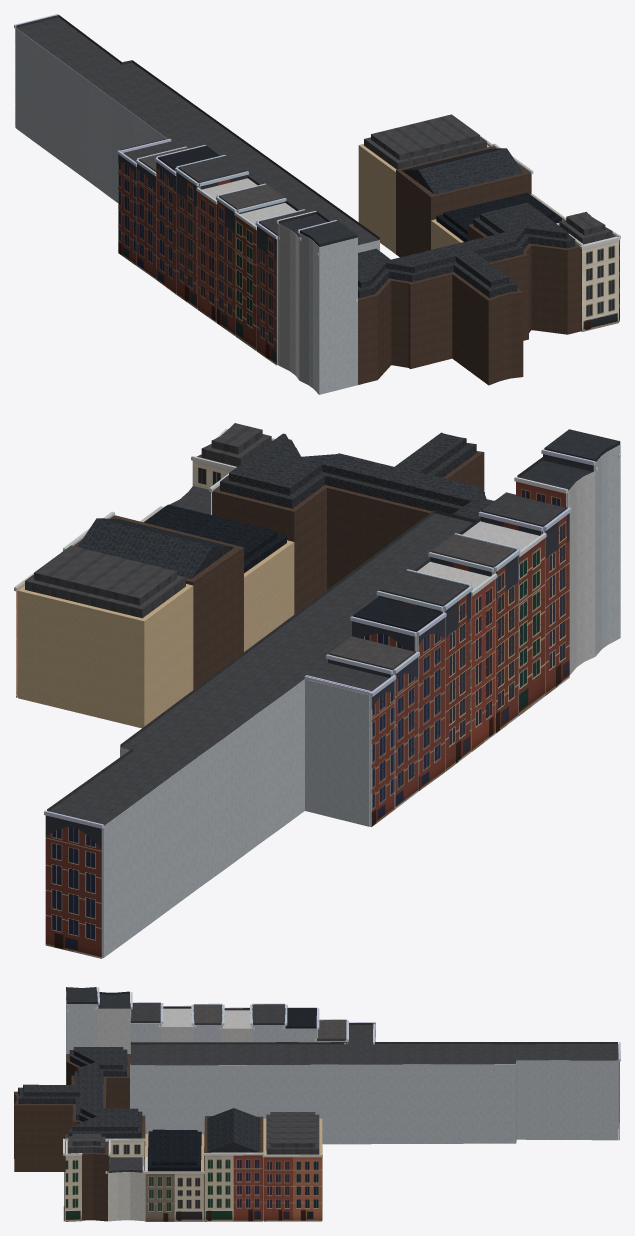
The picture shows the model from 3 angles, top to bottom: view 1: azimuth 30°, elevation 25°; view 2: azimuth 150°, elevation 25°; view 3: azimuth 270°, elevation 25°; orthographic projection. The views are drawn at different scales.
Visible parts, largest first — view 1: bldg_996725768, bldg_996725786_roof, bldg_996725786, bldg_996725766, bldg_996725768_roof_b, bldg_996725770, bldg_996725764_facade2, bldg_996725770_roof, bldg_996725771, bldg_996725767, bldg_996725768_roof_a, bldg_996725771_roof_b (+18 smaller); view 2: bldg_996725786, bldg_996725786_roof, bldg_996725771, bldg_996725768, bldg_996725768_roof_b, bldg_996725786_facade2, bldg_996725770, bldg_996725767, bldg_996725766, bldg_996725770_roof, bldg_996725771_roof_b, bldg_996725789_facade0 (+26 smaller); view 3: bldg_996725786, bldg_996725786_roof, bldg_996725768, bldg_996725770_facade0, bldg_996725771_facade0, bldg_996725768_roof_b, bldg_996725769_facade0, bldg_996725770_roof, bldg_996725768_roof_a, bldg_996725764, bldg_996725765, bldg_996725769_roof_b (+25 smaller).
Part boxes in pixels (<box>): bldg_996725768: <box>358,224,580,385</box>; bldg_996725786_roof: <box>16,15,379,245</box>; bldg_996725786: <box>16,28,379,252</box>; bldg_996725766: <box>299,233,357,394</box>; bldg_996725768_roof_b: <box>358,202,568,288</box>; bldg_996725770: <box>396,146,530,257</box>; bldg_996725764_facade2: <box>580,237,620,331</box>; bldg_996725770_roof: <box>402,148,523,194</box>; bldg_996725771: <box>358,144,489,253</box>; bldg_996725767: <box>278,223,299,379</box>; bldg_996725768_roof_a: <box>358,217,575,298</box>; bldg_996725771_roof_b: <box>371,114,479,160</box>; bldg_996725786: <box>102,679,370,957</box>; bldg_996725786_roof: <box>47,510,476,825</box>; bldg_996725771: <box>18,584,193,728</box>; bldg_996725768: <box>213,448,491,614</box>; bldg_996725768_roof_b: <box>229,432,494,519</box>; bldg_996725786_facade2: <box>44,810,103,958</box>; bldg_996725770: <box>74,515,243,689</box>; bldg_996725767: <box>567,471,595,674</box>; bldg_996725766: <box>594,444,620,656</box>; bldg_996725770_roof: <box>77,518,234,579</box>; bldg_996725771_roof_b: <box>34,545,176,605</box>; bldg_996725789_facade0: <box>443,586,472,771</box>; bldg_996725786: <box>130,1025,618,1144</box>; bldg_996725786_roof: <box>130,1023,618,1065</box>; bldg_996725768: <box>14,1054,145,1171</box>; bldg_996725770_facade0: <box>203,1152,263,1221</box>; bldg_996725771_facade0: <box>262,1154,322,1221</box>; bldg_996725768_roof_b: <box>23,1047,138,1131</box>; bldg_996725769_facade0: <box>144,1171,204,1221</box>; bldg_996725770_roof: <box>207,1108,260,1152</box>; bldg_996725768_roof_a: <box>18,1049,142,1138</box>; bldg_996725764: <box>65,1141,108,1221</box>; bldg_996725765: <box>108,1159,144,1221</box>; bldg_996725769_roof_b: <box>152,1129,197,1165</box>.
Size of the model in its own units: 49.26 by 22.96 by 106.
39 materials, 19 textured.
